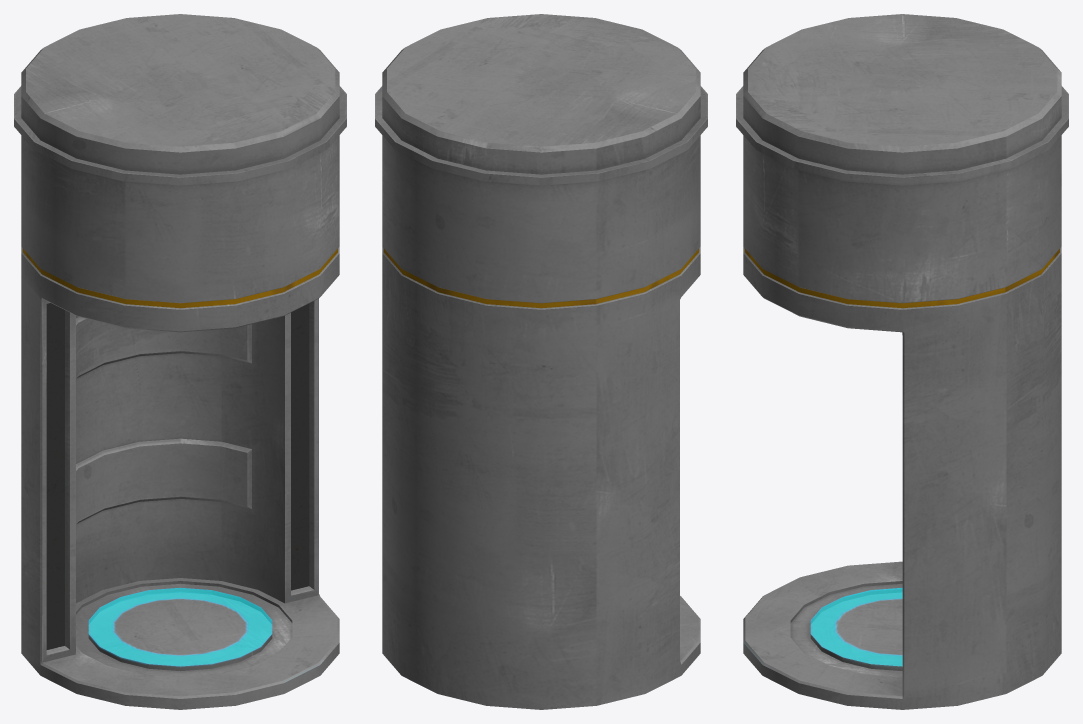
File: teleporting_pod.glb
3 renders of one model, left to right at view 1: azimuth 30°, elevation 25°; view 2: azimuth 150°, elevation 25°; view 3: azimuth 270°, elevation 25°, orthographic.
Parts seen in each view (by area): view 1: Cylinder001; view 2: Cylinder001; view 3: Cylinder001.
Part boxes in pixels (x1,y1,x2,y2): Cylinder001: (14, 14, 346, 709); Cylinder001: (375, 14, 707, 709); Cylinder001: (736, 14, 1068, 709).
Size of what is drawn, in the model's own units: 0.3815 by 0.6993 by 0.3757.
Materials: 1 (1 with a texture image).
